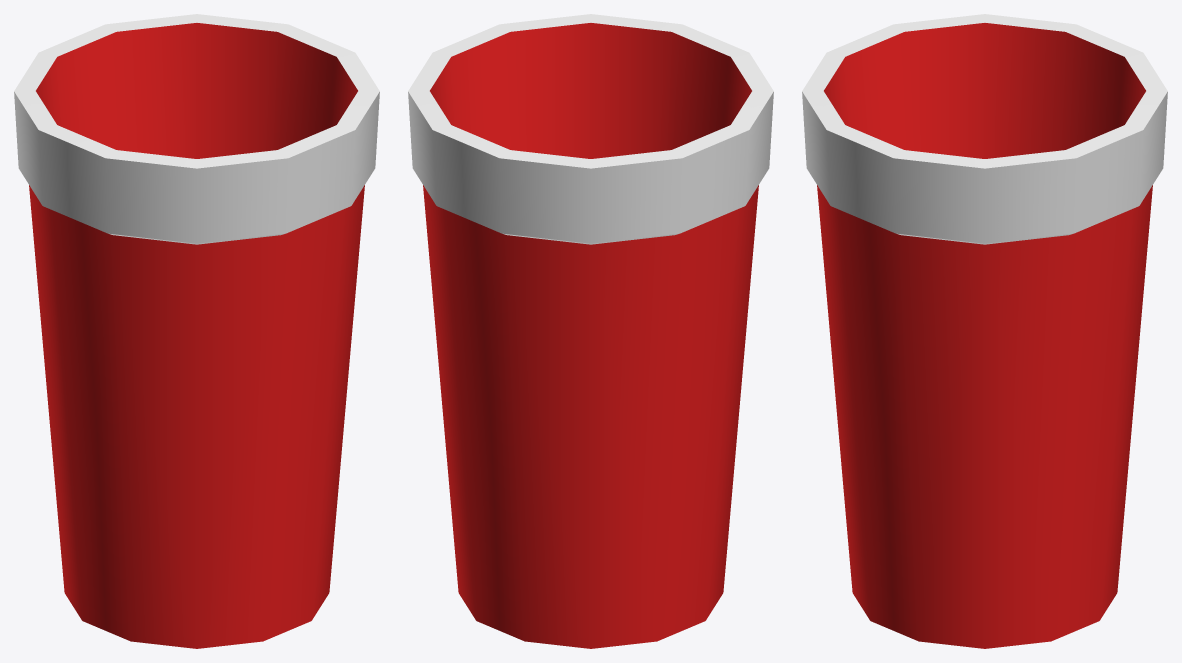
The model's file is Cup.obj.
3 views of the same model, side by side, from view 1: azimuth 30°, elevation 25°; view 2: azimuth 150°, elevation 25°; view 3: azimuth 270°, elevation 25° (orthographic).
Visible parts, largest first — view 1: Cup; view 2: Cup; view 3: Cup.
Part boxes in pixels (bbox=[...]): Cup: bbox=[14, 14, 379, 648]; Cup: bbox=[408, 14, 773, 648]; Cup: bbox=[802, 14, 1167, 648].
Bounding box in the file's own units: 0.1023 × 0.1549 × 0.1023.
